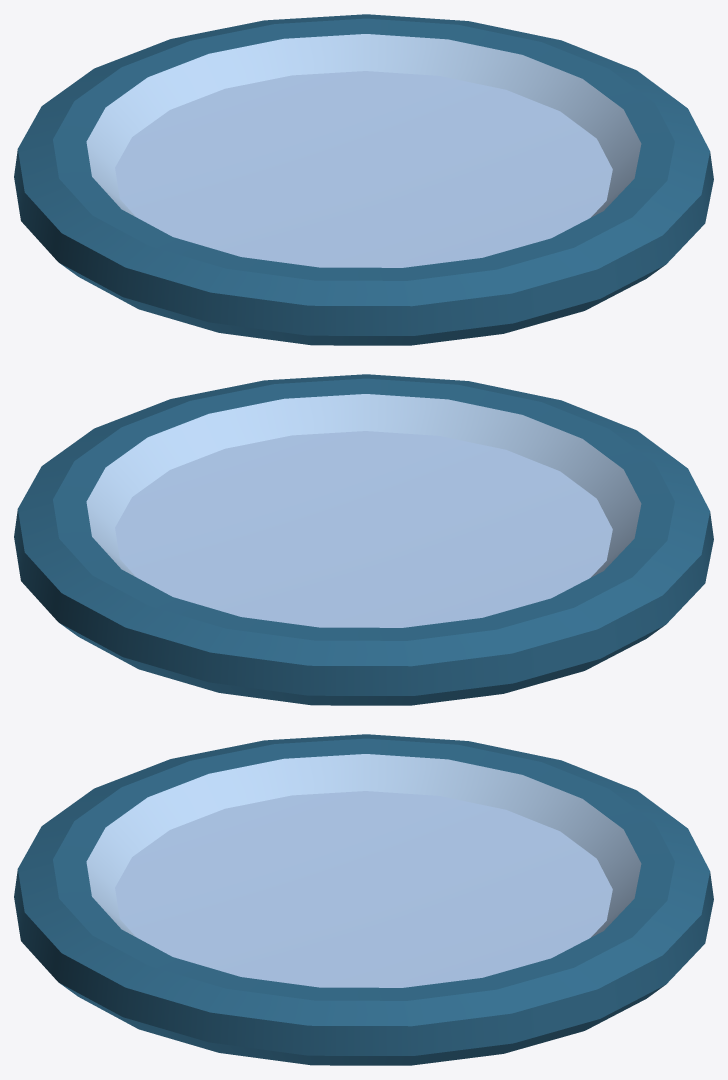
File: Dish_1_Plate.glb
The picture shows the model from 3 angles, top to bottom: view 1: azimuth 30°, elevation 25°; view 2: azimuth 150°, elevation 25°; view 3: azimuth 270°, elevation 25°; orthographic projection.
Parts seen in each view (by area): view 1: Dish_1_Plate; view 2: Dish_1_Plate; view 3: Dish_1_Plate.
Boxes of the visible parts, left/top/right/bottom form: Dish_1_Plate: left=14, top=14, right=713, bottom=345; Dish_1_Plate: left=14, top=374, right=713, bottom=705; Dish_1_Plate: left=14, top=734, right=713, bottom=1065.
Size of the model in its own units: 0.6248 by 0.0818 by 0.6262.
Materials: 1 (1 with a texture image).
